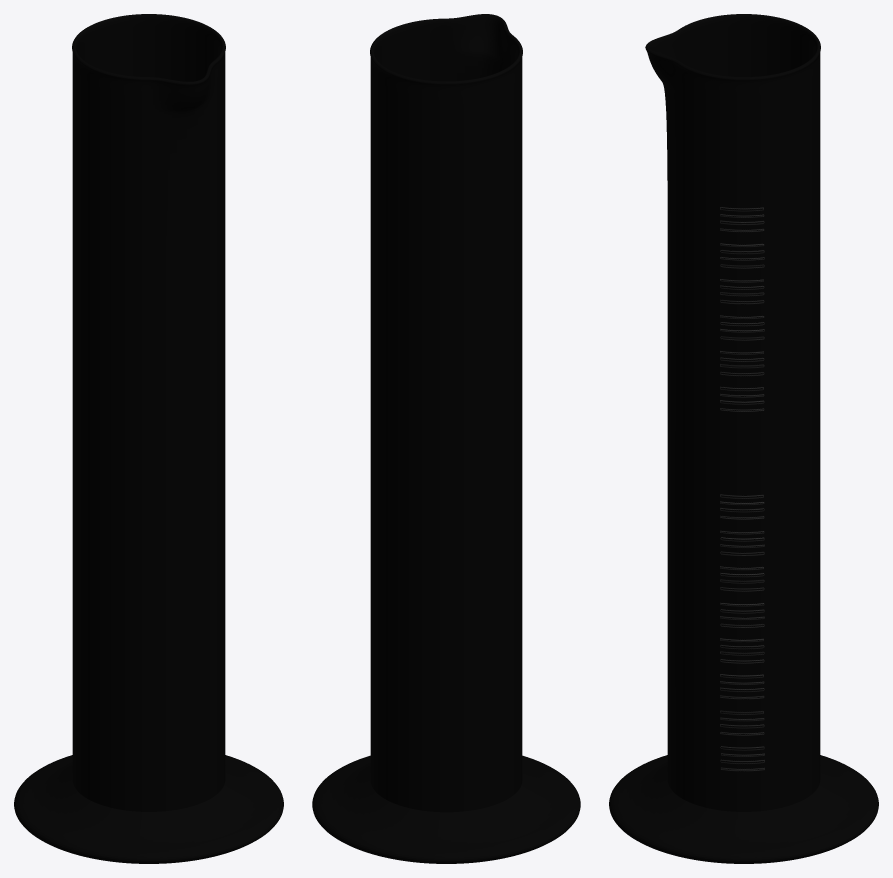
The model's file is MeasuringCylinder.glb.
3 views of the same model, side by side, from view 1: azimuth 30°, elevation 25°; view 2: azimuth 150°, elevation 25°; view 3: azimuth 270°, elevation 25° (orthographic).
Visible parts, largest first — view 1: Circle; view 2: Circle; view 3: Circle.
Part boxes in pixels (x1=…): Circle: x1=14, y1=14, x2=283, y2=863; Circle: x1=312, y1=14, x2=580, y2=863; Circle: x1=609, y1=14, x2=878, y2=863.
Size of the model in its own units: 0.2082 by 0.6543 by 0.2082.
1 material, 1 textured.
